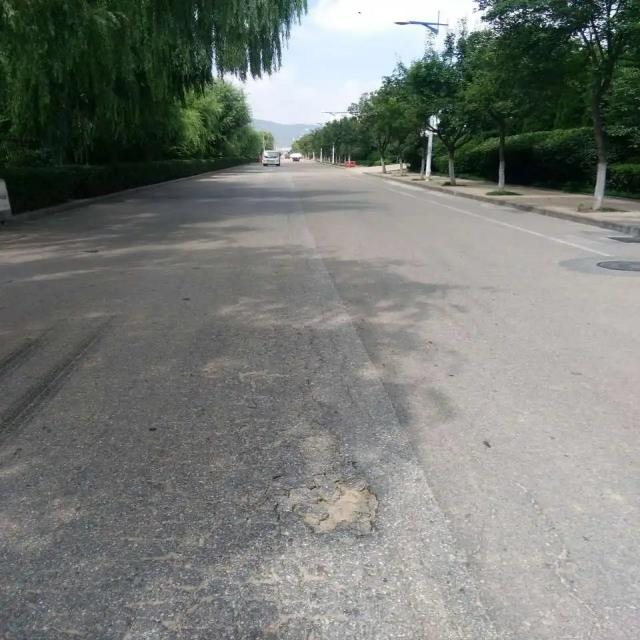Pothole: (255, 326, 388, 548)
